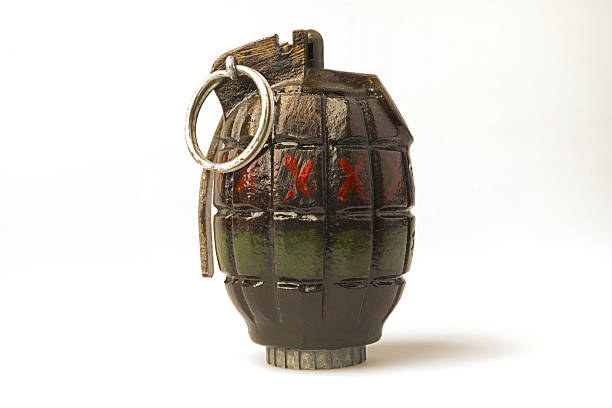e1: (187, 30, 416, 372)
